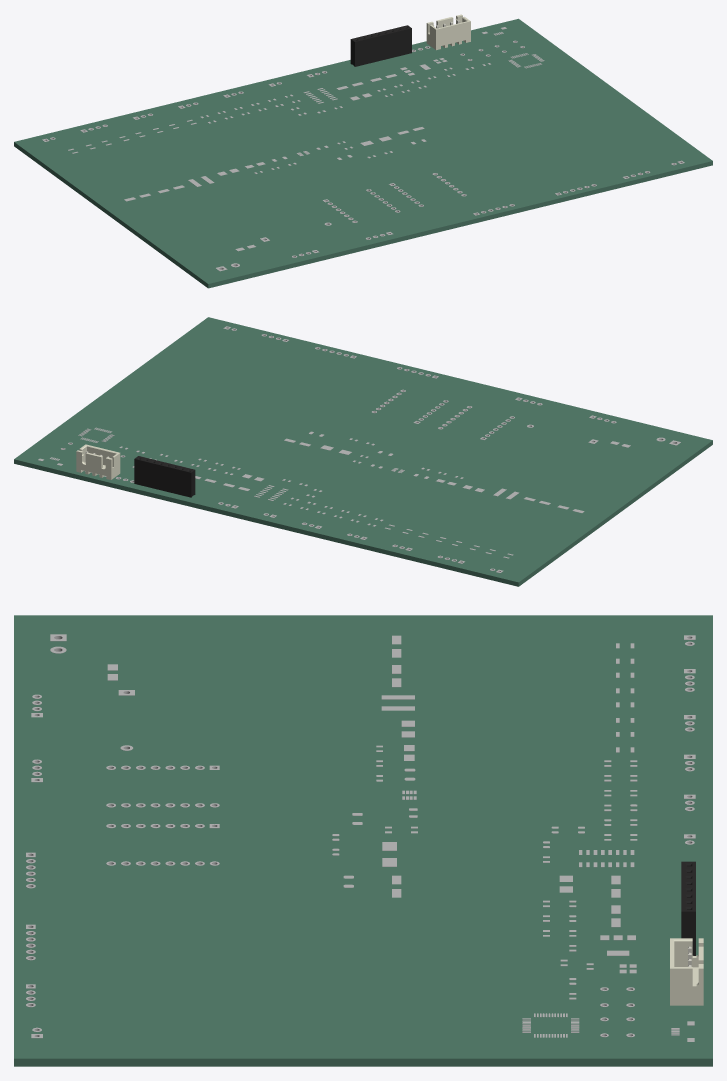
File: key_disp_after.glb
The picture shows the model from 3 angles, top to bottom: view 1: azimuth 30°, elevation 25°; view 2: azimuth 150°, elevation 25°; view 3: azimuth 270°, elevation 25°; orthographic projection. The views are drawn at different scales.
Visible parts, largest first — view 1: =>[0:1:1:7], =>[0:1:1:6], =>[0:1:1:5], =>[0:1:1:3]; view 2: =>[0:1:1:7], =>[0:1:1:6], =>[0:1:1:5], =>[0:1:1:3]; view 3: =>[0:1:1:7], =>[0:1:1:6], =>[0:1:1:3], =>[0:1:1:5].
Part boxes in pixels (box(x1,y1,x2,y2)): =>[0:1:1:7]: box(14, 18, 712, 288); =>[0:1:1:6]: box(42, 27, 684, 271); =>[0:1:1:5]: box(350, 25, 411, 66); =>[0:1:1:3]: box(426, 14, 470, 50); =>[0:1:1:7]: box(14, 317, 712, 586); =>[0:1:1:6]: box(38, 326, 680, 573); =>[0:1:1:5]: box(134, 456, 195, 497); =>[0:1:1:3]: box(76, 444, 120, 479); =>[0:1:1:7]: box(14, 615, 712, 1066); =>[0:1:1:6]: box(26, 634, 695, 1041); =>[0:1:1:3]: box(670, 938, 703, 1005); =>[0:1:1:5]: box(681, 861, 695, 955).
Bounding box in the file's own units: 0.18 × 0.0119 × 0.12.
